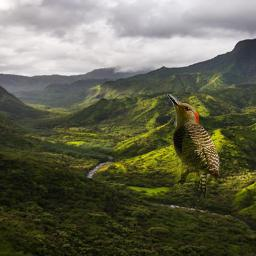Woodpecker: (167, 94, 220, 198)
